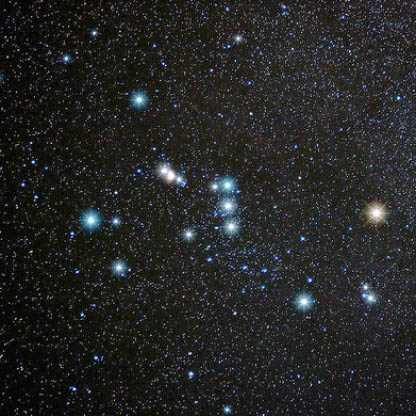Orion: (78, 194, 105, 235), (121, 81, 154, 111), (366, 196, 395, 229), (291, 288, 316, 320), (210, 168, 238, 196), (222, 220, 246, 241), (218, 195, 241, 216)
